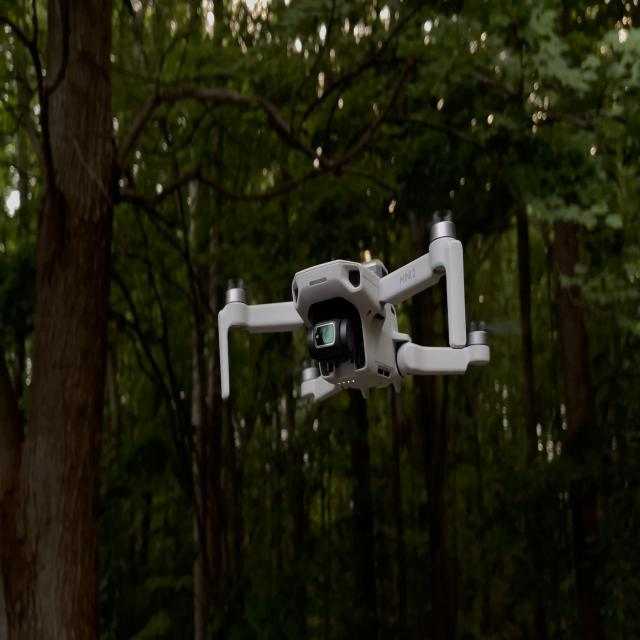Drone: (217, 224, 490, 402)
